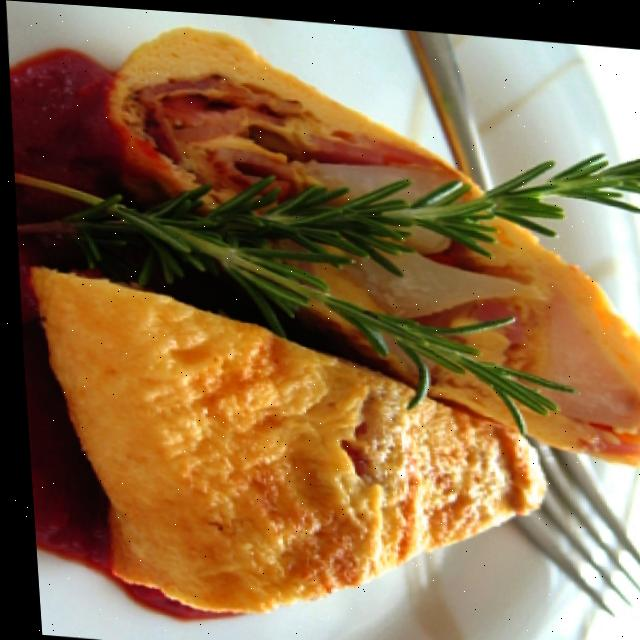鸡蛋料理: (9, 27, 640, 612)
